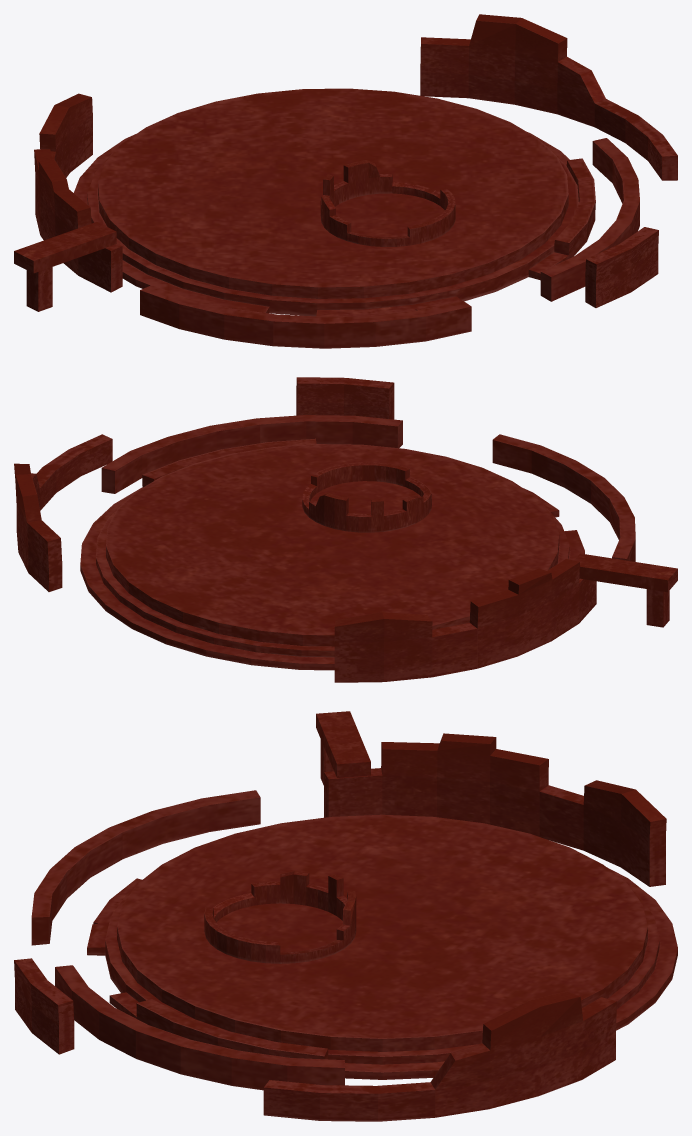
Rendered from spawner.gltf.
The picture shows the model from 3 angles, top to bottom: view 1: azimuth 30°, elevation 25°; view 2: azimuth 150°, elevation 25°; view 3: azimuth 270°, elevation 25°; orthographic projection. The views are drawn at different scales.
Visible parts, largest first — view 1: Platform; view 2: Platform; view 3: Platform.
Boxes of the visible parts, x1=… form: Platform: x1=14, y1=14, x2=677, y2=348; Platform: x1=14, y1=377, x2=677, y2=682; Platform: x1=14, y1=711, x2=677, y2=1121.
Size of the model in its own units: 16.75 by 2.04 by 13.43.
1 material, 1 textured.
